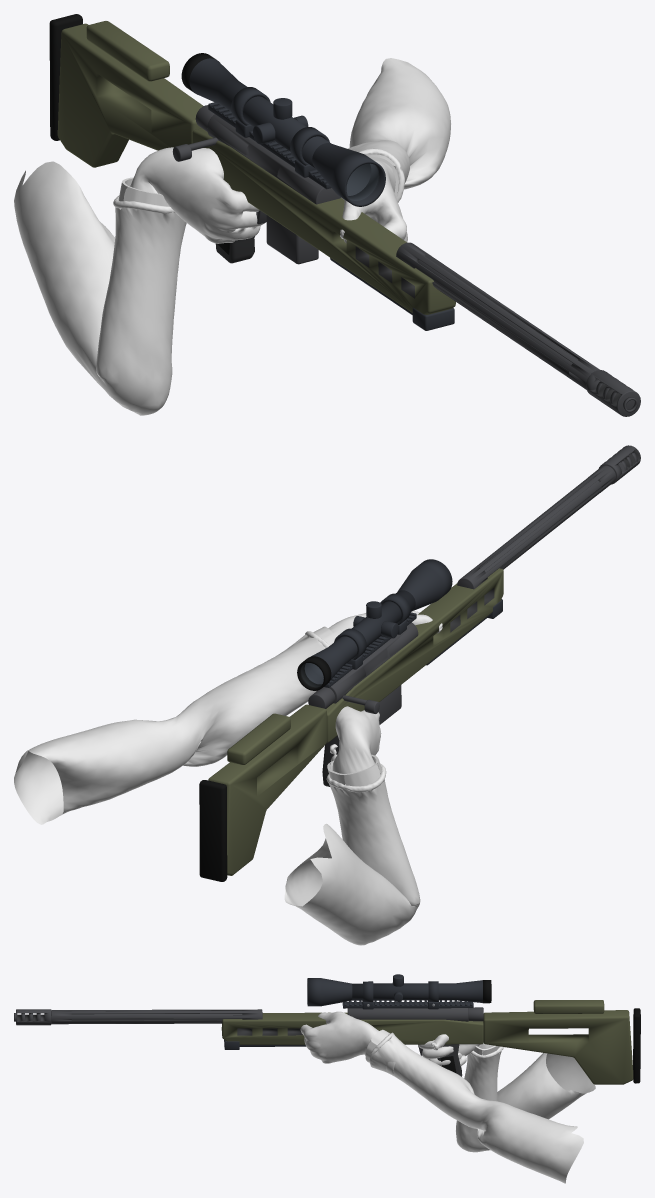
File: FP_longshot.glb
3 views of the same model, one above another, from view 1: azimuth 30°, elevation 25°; view 2: azimuth 150°, elevation 25°; view 3: azimuth 270°, elevation 25° (orthographic). The views are drawn at different scales.
Visible parts, largest first — view 1: W_longshot_Mesh.001, FP_longshot_Arms; view 2: FP_longshot_Arms, W_longshot_Mesh.001; view 3: W_longshot_Mesh.001, FP_longshot_Arms.
Part boxes in pixels (x1,y1,x2,y2): W_longshot_Mesh.001: (49, 14, 640, 416); FP_longshot_Arms: (14, 58, 450, 415); FP_longshot_Arms: (14, 611, 442, 945); W_longshot_Mesh.001: (199, 445, 640, 881); W_longshot_Mesh.001: (14, 974, 640, 1084); FP_longshot_Arms: (300, 1011, 595, 1183).
Bounding box in the file's own units: 0.5507 × 0.4316 × 1.25.
